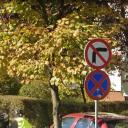NoVirarDireita: (84, 38, 113, 72)
